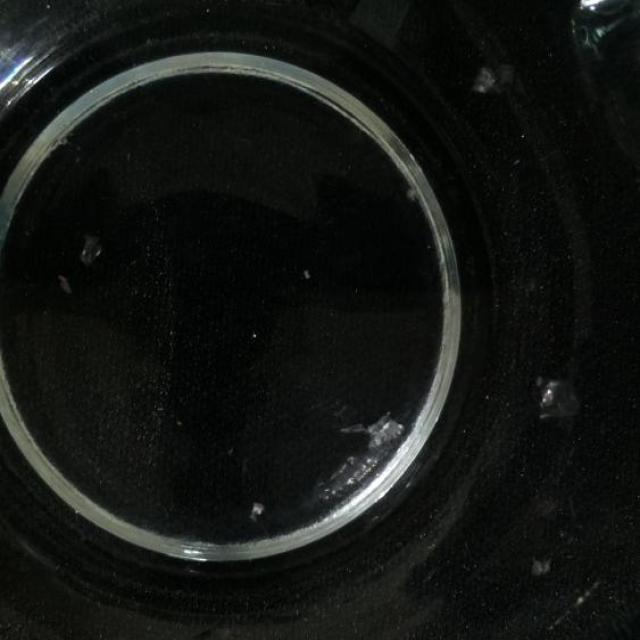fiber: (535, 372, 584, 424), (339, 413, 403, 451), (472, 62, 522, 96), (528, 552, 557, 582), (51, 269, 76, 302), (81, 234, 100, 266), (248, 499, 266, 521)
